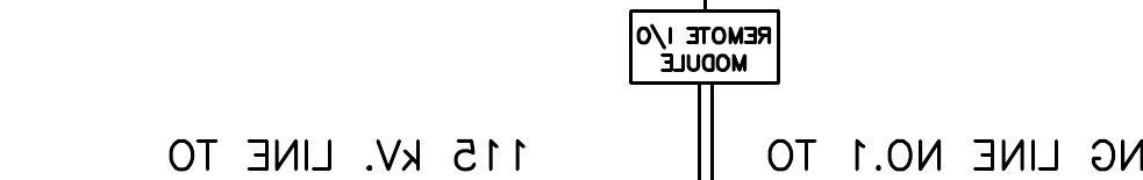remote_io_module: (629, 9, 781, 86)
